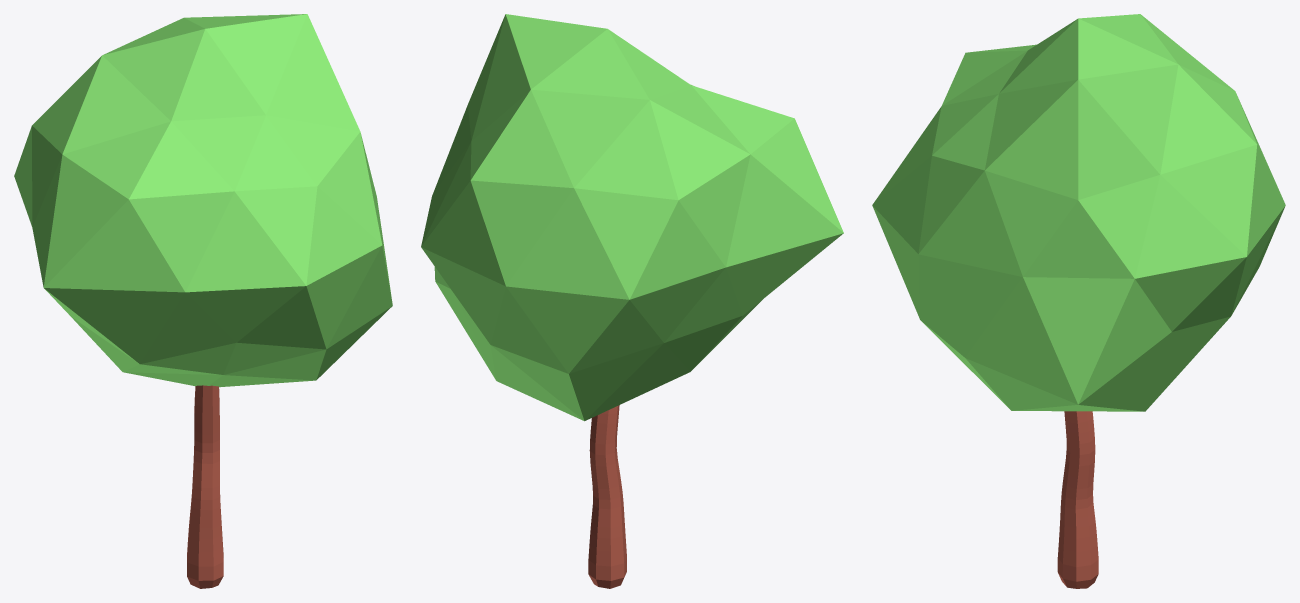
The model's file is world_tree2.fbx.
3 renders of one model, left to right at view 1: azimuth 30°, elevation 25°; view 2: azimuth 150°, elevation 25°; view 3: azimuth 270°, elevation 25°, orthographic.
Visible parts, largest first — view 1: tree1; view 2: tree1; view 3: tree1.
Part boxes in pixels (x1,y1,x2,y2): tree1: [14, 14, 392, 588]; tree1: [421, 14, 843, 588]; tree1: [872, 14, 1285, 588].
Bounding box in the file's own units: 721 × 1035 × 682.
